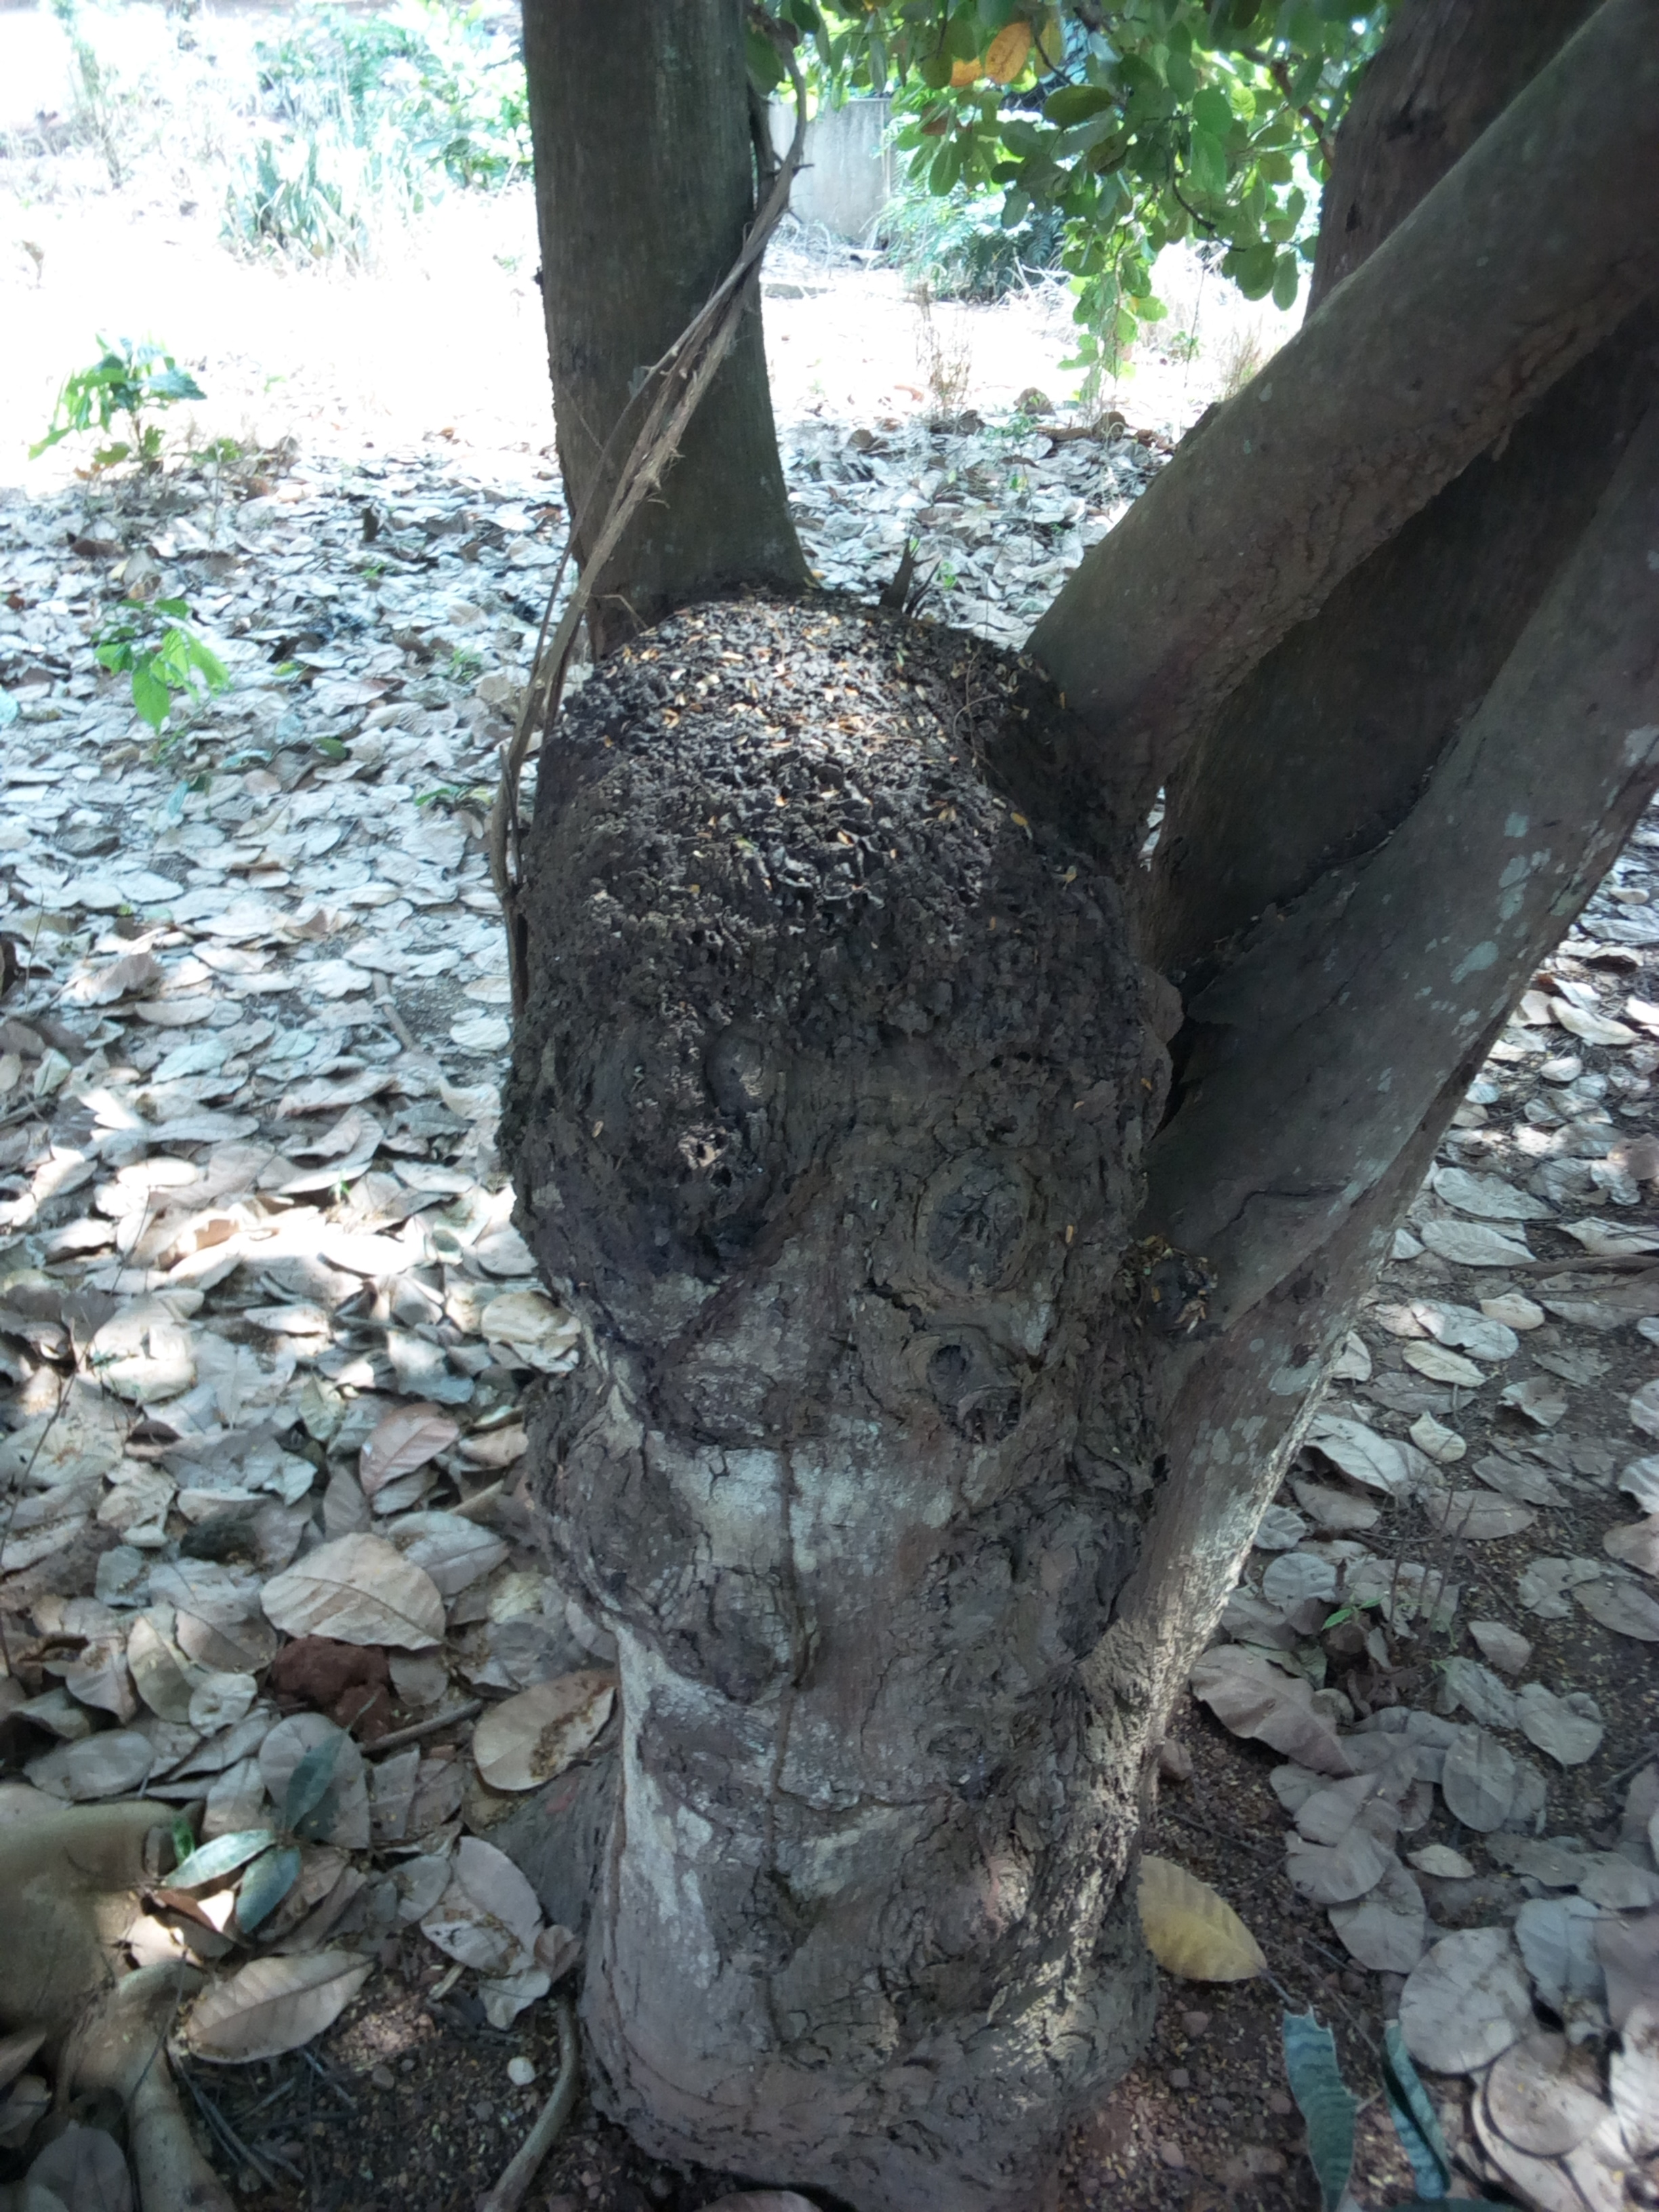Termites: (528, 618, 1159, 1268), (894, 1458, 1155, 2031)
